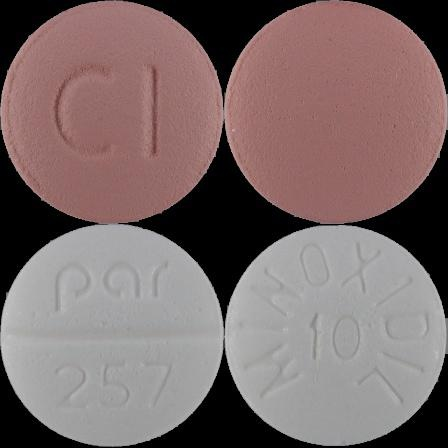53808-1031: (0, 0, 224, 224)
